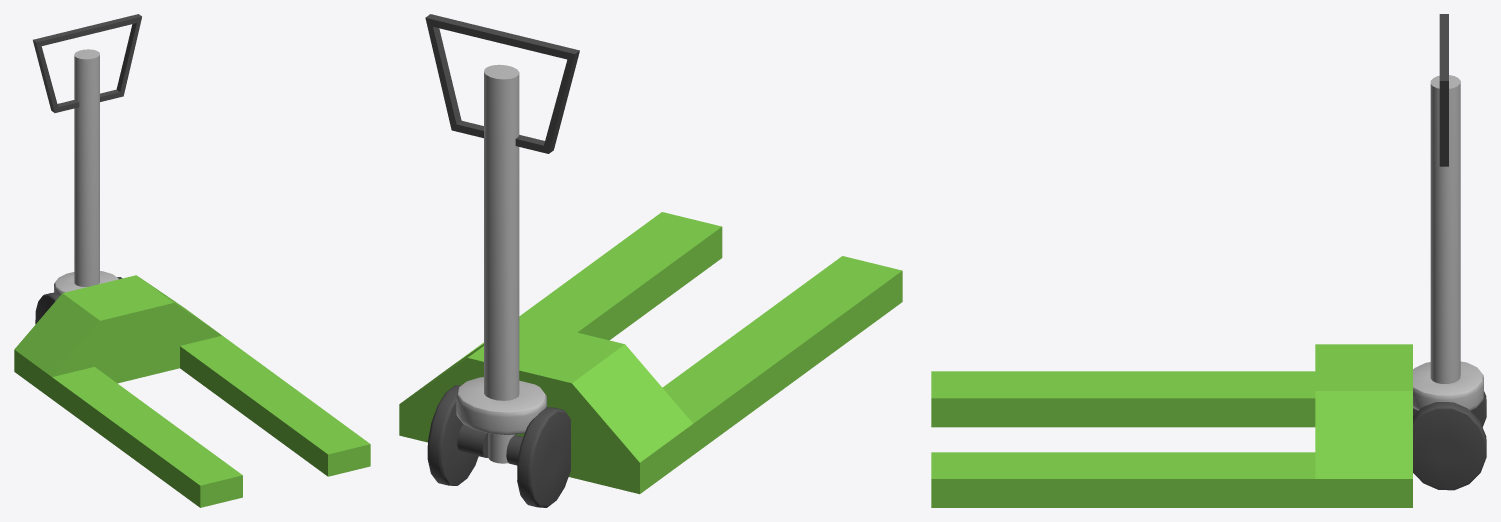
File: Props_HandPalletJack.fbx
3 views of the same model, side by side, from view 1: azimuth 30°, elevation 25°; view 2: azimuth 150°, elevation 25°; view 3: azimuth 270°, elevation 25° (orthographic). The views are drawn at different scales.
Parts seen in each view (by area): view 1: Props_HandPalletJack; view 2: Props_HandPalletJack; view 3: Props_HandPalletJack.
Boxes of the visible parts, x1=… form: Props_HandPalletJack: x1=14, y1=14, x2=370, y2=507; Props_HandPalletJack: x1=399, y1=14, x2=902, y2=507; Props_HandPalletJack: x1=931, y1=14, x2=1486, y2=507.
Bounding box in the file's own units: 80 × 146 × 174.
